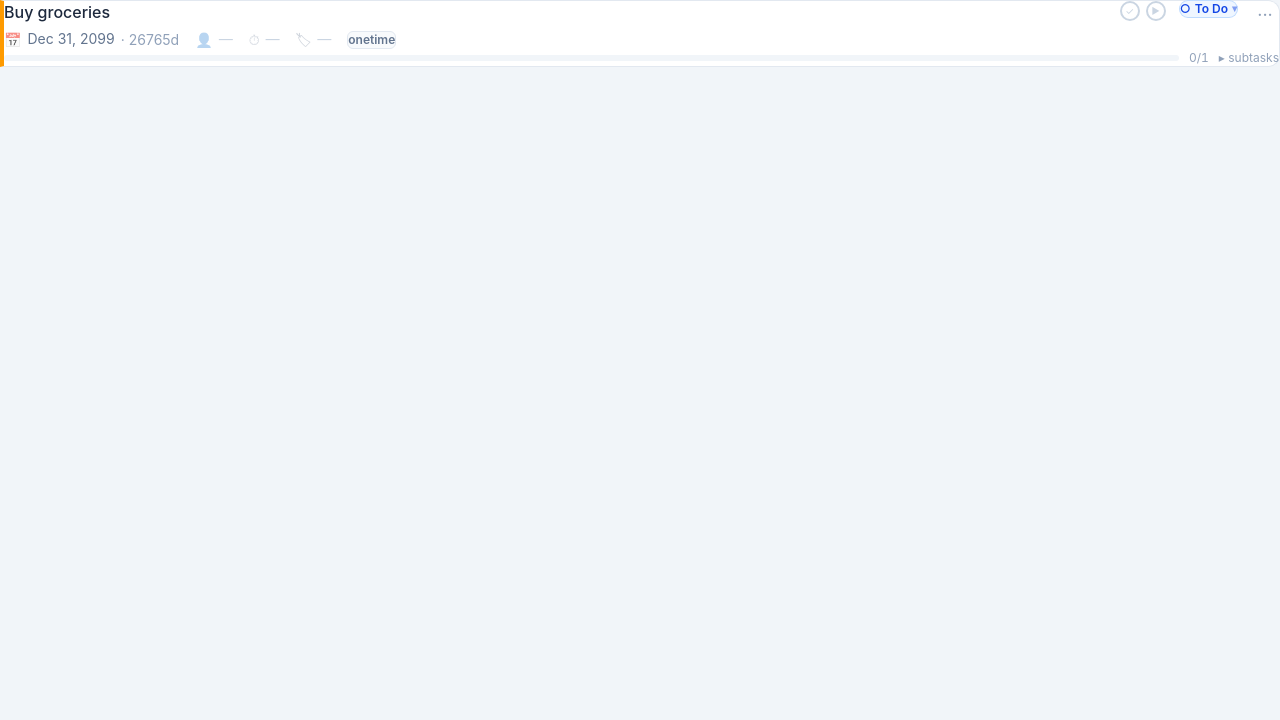
Test: TaskCard — mark-done flow › "Mark done anyway" button patches task and closes modal
Step 1. Click the button titled "Mark as done" → (1130, 11), box [1120,1,1140,21]
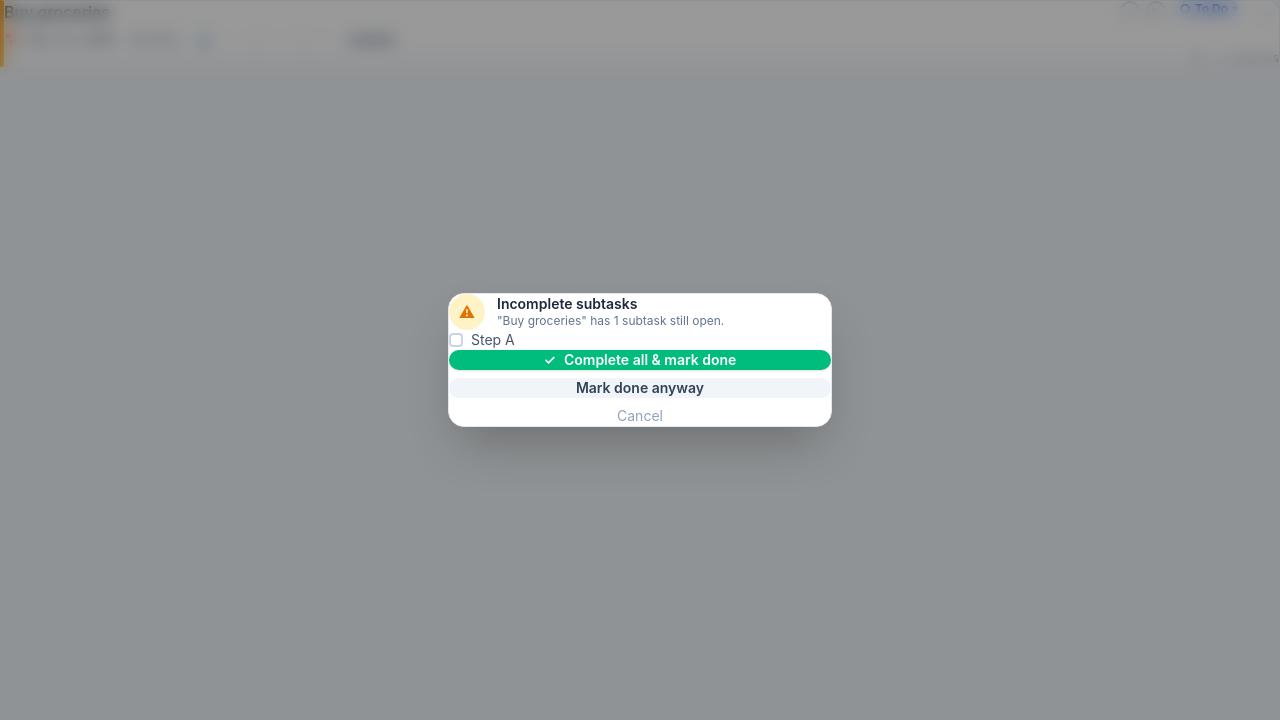
Step 2. Click the button "Mark done anyway" → (640, 388), box [449,378,831,398]
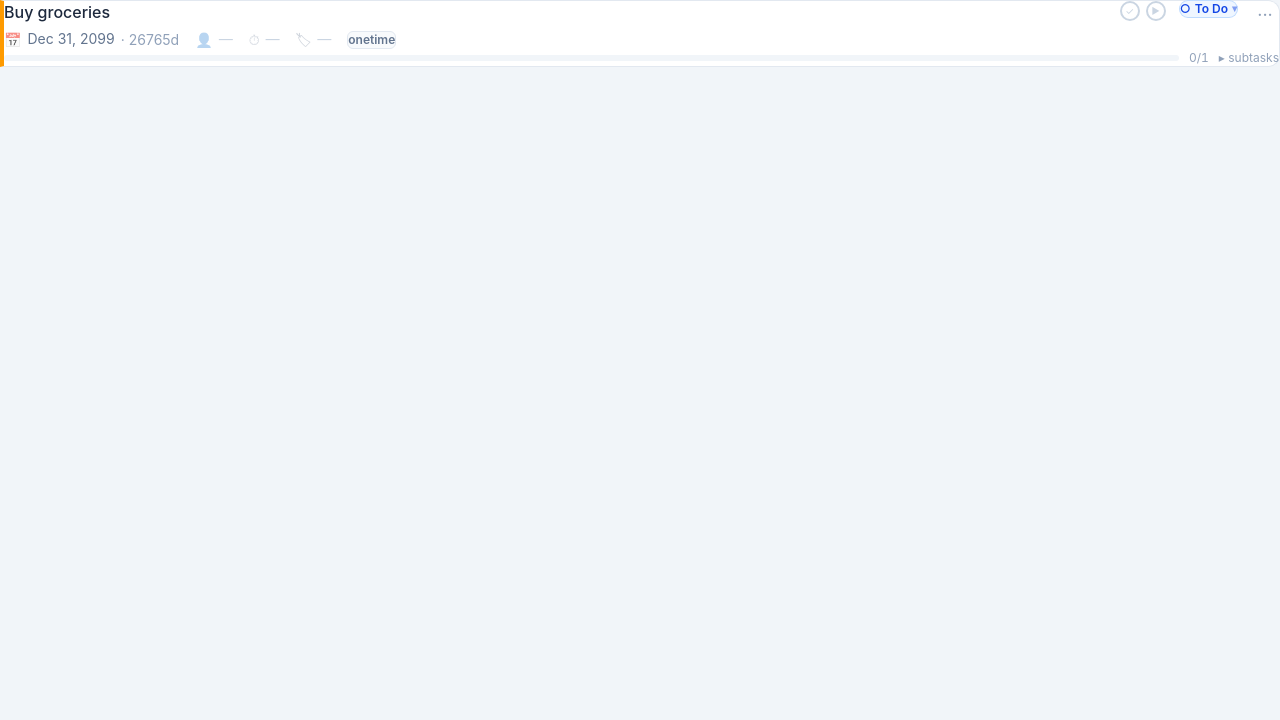
Expected: the text "Incomplete subtasks" is gone
